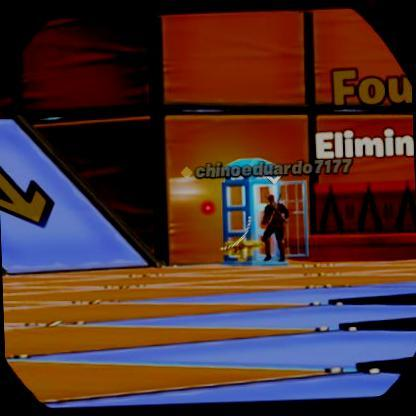person: (261, 198, 290, 262)
